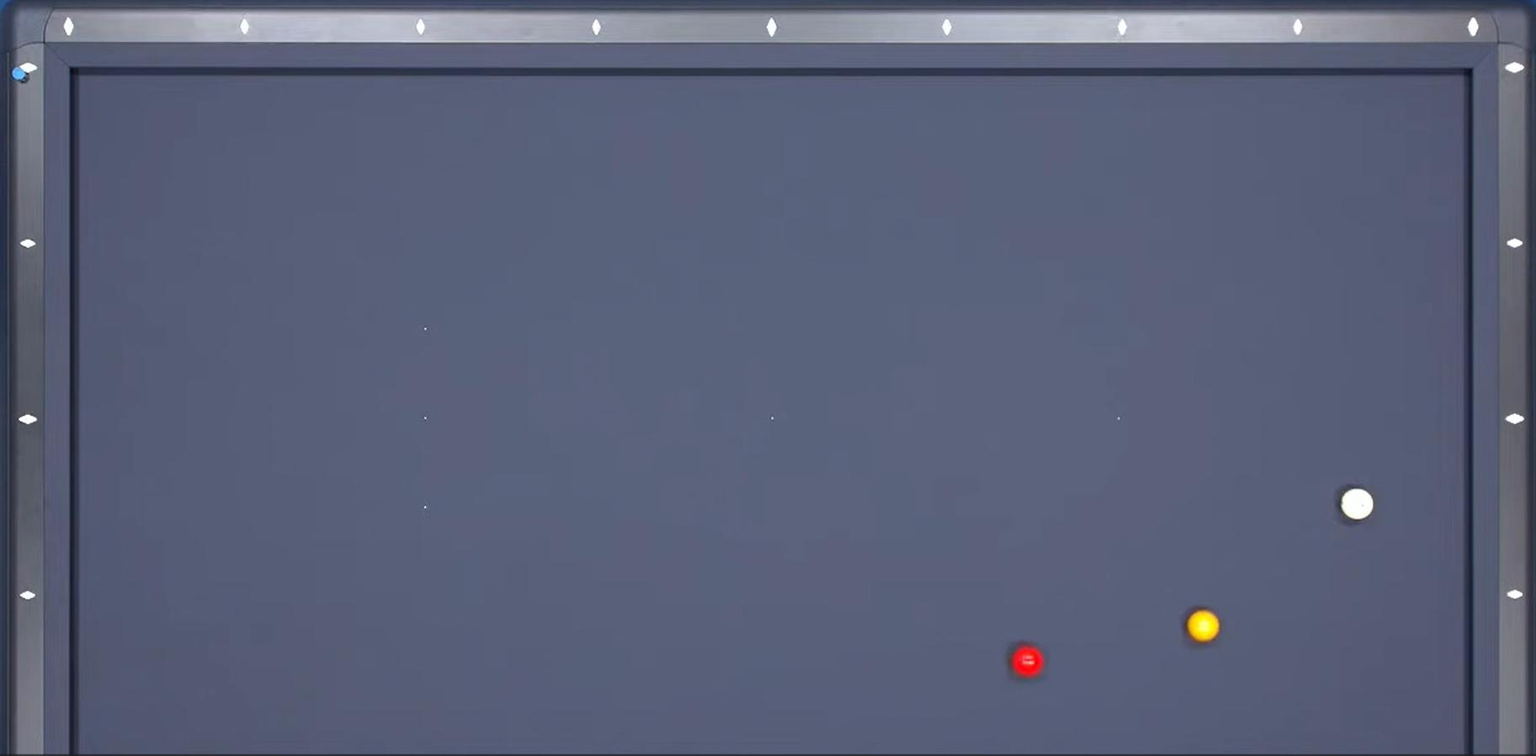red ball: (1006, 641, 1052, 682)
white ball: (1339, 483, 1375, 524)
yellow ball: (1183, 605, 1222, 648)
